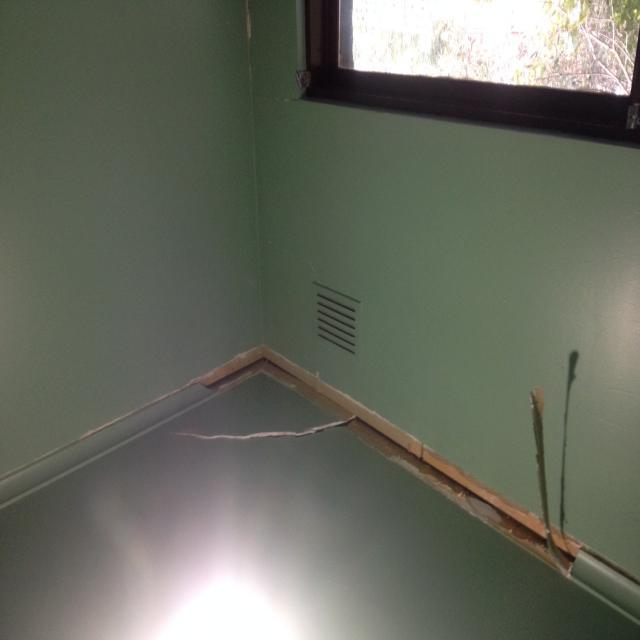Crack: (358, 411, 581, 577), (196, 344, 359, 416), (174, 414, 356, 441)
